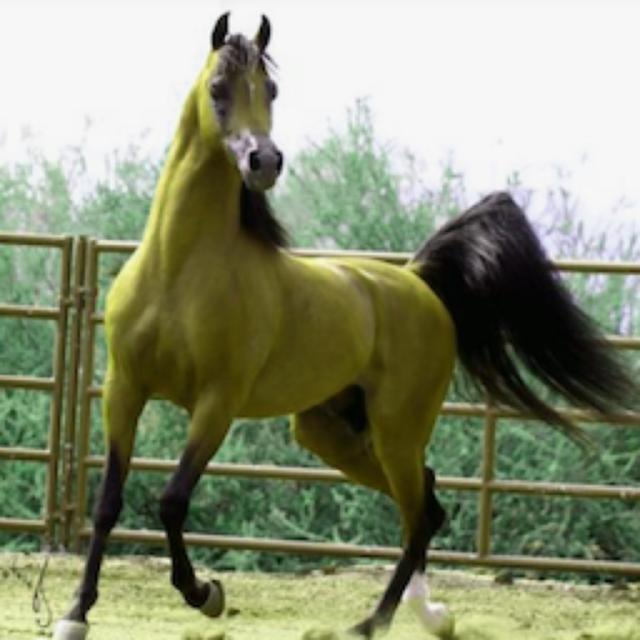Horse: (38, 7, 640, 637)
